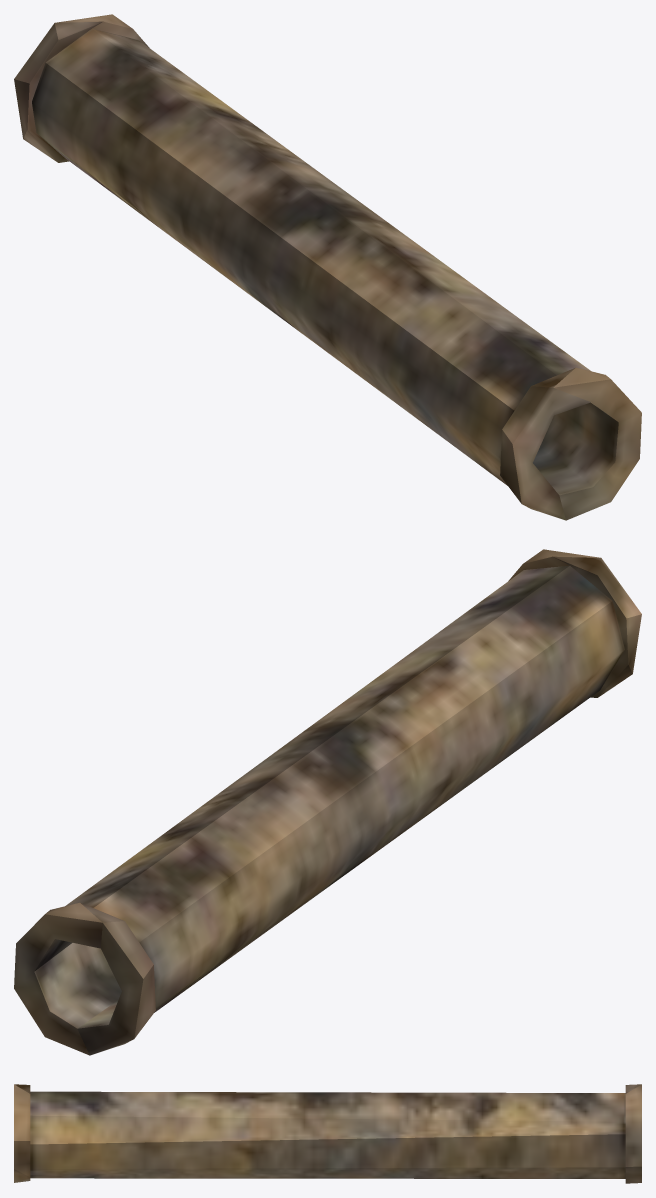
Rendered from pipe-straight-long.lod1.glb.
3 renders of one model, top to bottom at view 1: azimuth 30°, elevation 25°; view 2: azimuth 150°, elevation 25°; view 3: azimuth 270°, elevation 25°, orthographic. The views are drawn at different scales.
Parts seen in each view (by area): view 1: pipe-straight-long; view 2: pipe-straight-long; view 3: pipe-straight-long.
Part boxes in pixels (x1=…): pipe-straight-long: x1=14, y1=14, x2=641, y2=520; pipe-straight-long: x1=14, y1=549, x2=641, y2=1055; pipe-straight-long: x1=14, y1=1084, x2=641, y2=1183.
Bounding box in the file's own units: 0.2764 × 0.2804 × 1.84.
1 material, 1 textured.
